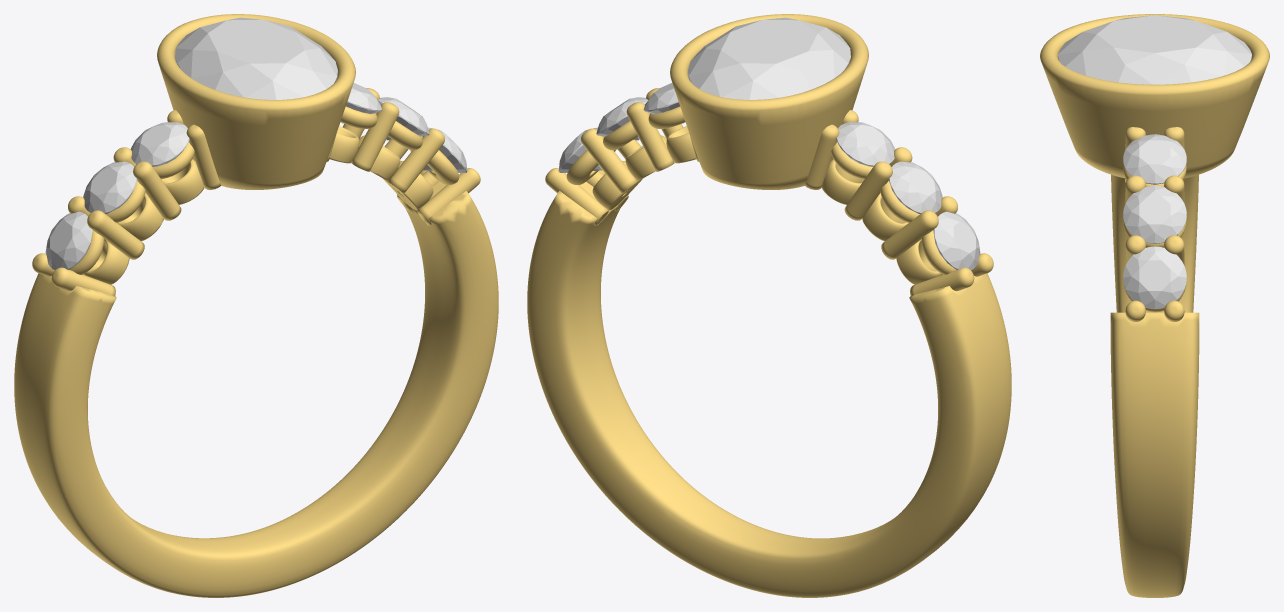
Rendered from diamond-oval-yellowgold-bezelset-straighttaperedband-7stone.glb.
3 views of the same model, side by side, from view 1: azimuth 30°, elevation 25°; view 2: azimuth 150°, elevation 25°; view 3: azimuth 270°, elevation 25° (orthographic).
Parts seen in each view (by area): view 1: metal, stone.002, side.018, side.019, side.020, side.022, side.023; view 2: metal, stone.002, side.018, side.019, side.020, side.022, side.023; view 3: metal, stone.002, side.021, side.022, side.023.
Part boxes in pixels (x1,y1,x2,y2): metal: [14, 14, 498, 597]; stone.002: [175, 17, 337, 99]; side.018: [45, 211, 92, 270]; side.019: [83, 161, 137, 213]; side.020: [130, 122, 189, 166]; side.022: [377, 97, 429, 140]; side.023: [342, 83, 382, 123]; metal: [527, 14, 1011, 597]; stone.002: [688, 17, 850, 99]; side.018: [933, 211, 980, 270]; side.019: [888, 161, 942, 213]; side.020: [836, 122, 895, 166]; side.022: [596, 97, 648, 140]; side.023: [643, 83, 683, 123]; metal: [1040, 14, 1269, 597]; stone.002: [1058, 15, 1251, 84]; side.021: [1123, 246, 1186, 309]; side.022: [1123, 185, 1186, 243]; side.023: [1123, 134, 1186, 184].
Bounding box in the file's own units: 20.49 × 23.41 × 9.04.
